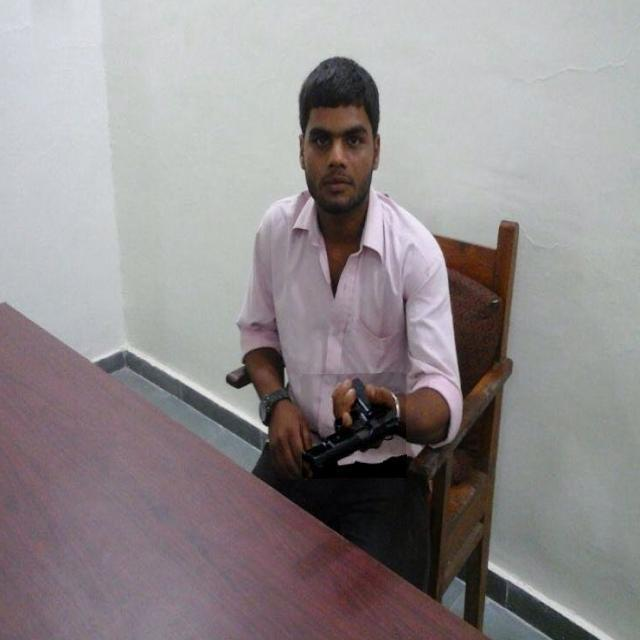Handgun: (301, 373, 407, 479)
